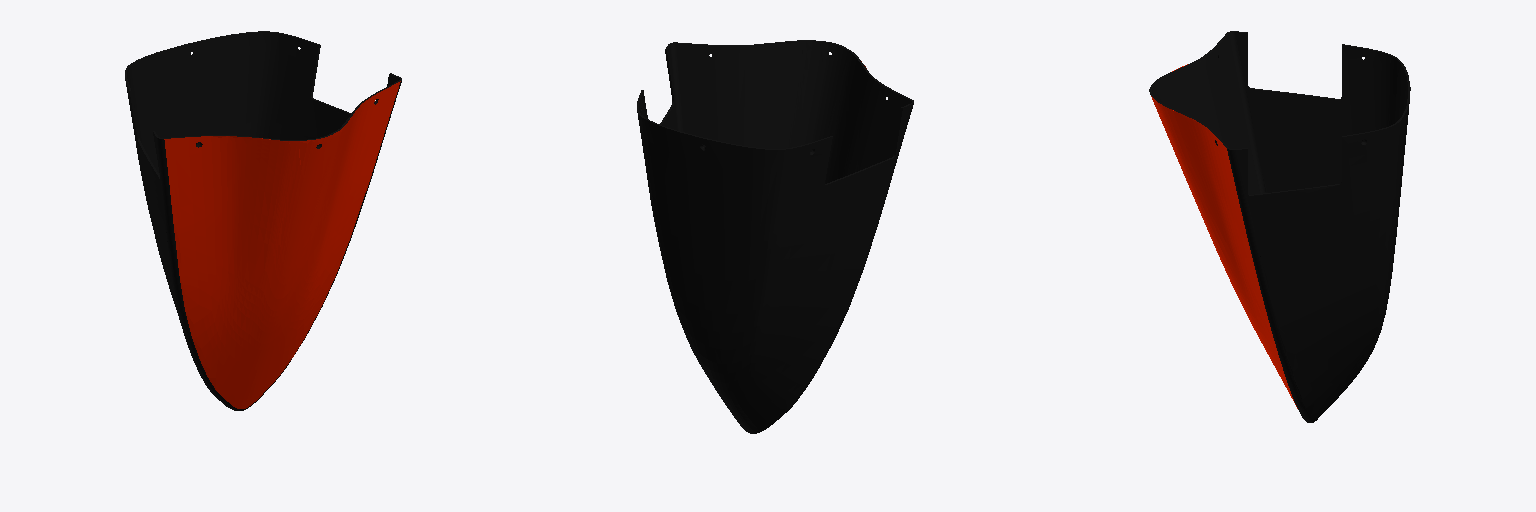
File: Front_cover.obj
3 views of the same model, side by side, from view 1: azimuth 30°, elevation 25°; view 2: azimuth 150°, elevation 25°; view 3: azimuth 270°, elevation 25° (orthographic).
Visible parts, largest first — view 1: 2 front cover; view 2: 2 front cover; view 3: 2 front cover.
Part boxes in pixels (x1,y1,x2,y2): 2 front cover: (125, 31, 401, 410); 2 front cover: (637, 40, 913, 433); 2 front cover: (1149, 31, 1410, 422).
Bounding box in the file's own units: 38.38 × 49.77 × 35.53.